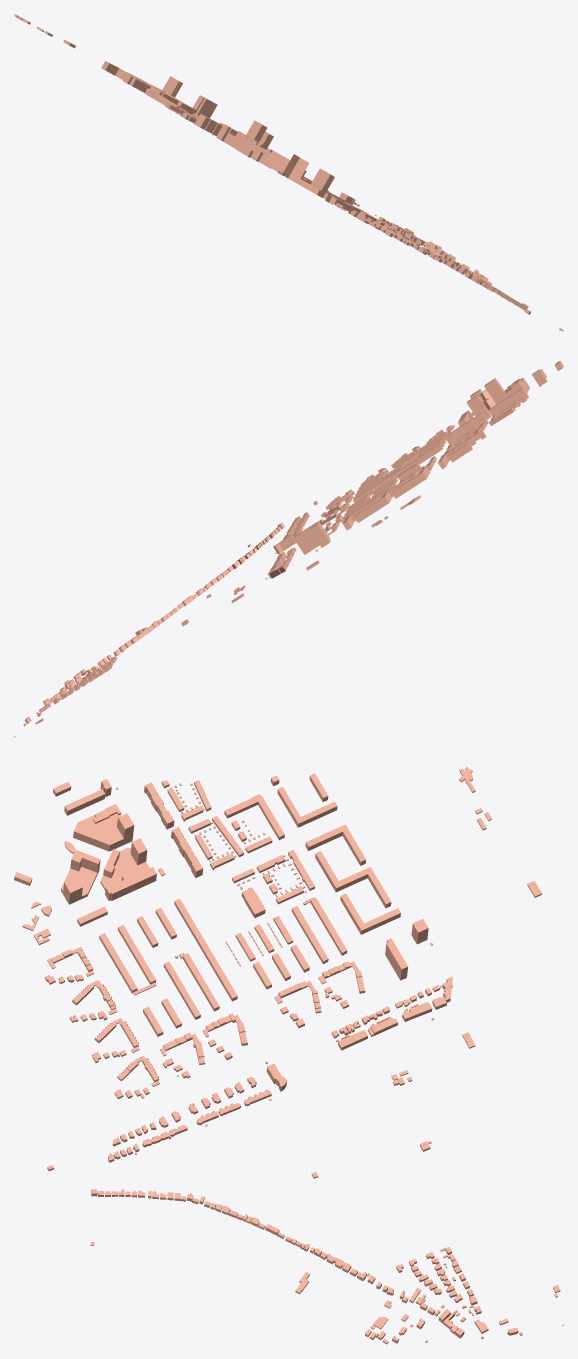
3 views of the same model, one above another, from view 1: azimuth 30°, elevation 25°; view 2: azimuth 150°, elevation 25°; view 3: azimuth 270°, elevation 25° (orthographic). The views are drawn at different scales.
Bounding box in the file's own units: 980 × 755 × 1030.
